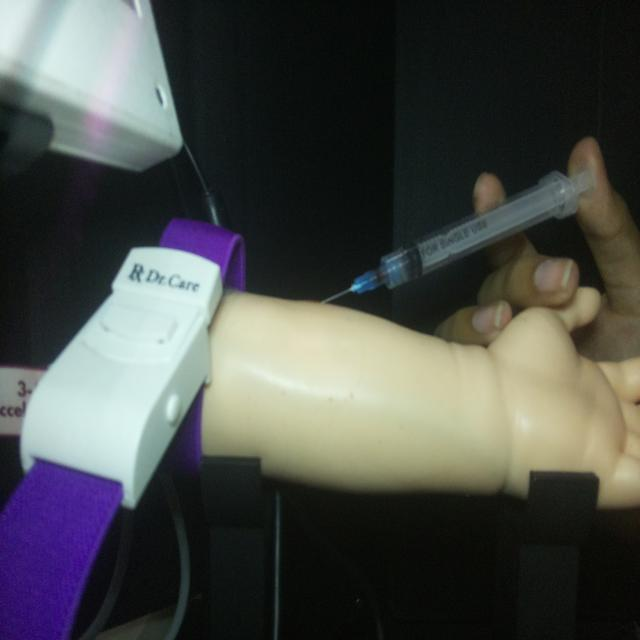15 degrees: (319, 163, 598, 307)
